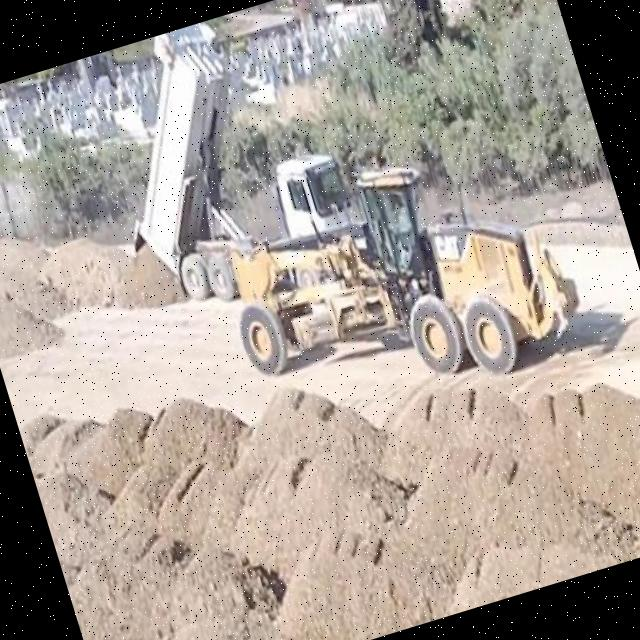Dump Truck: (79, 0, 348, 296)
Grader: (203, 120, 595, 442)
